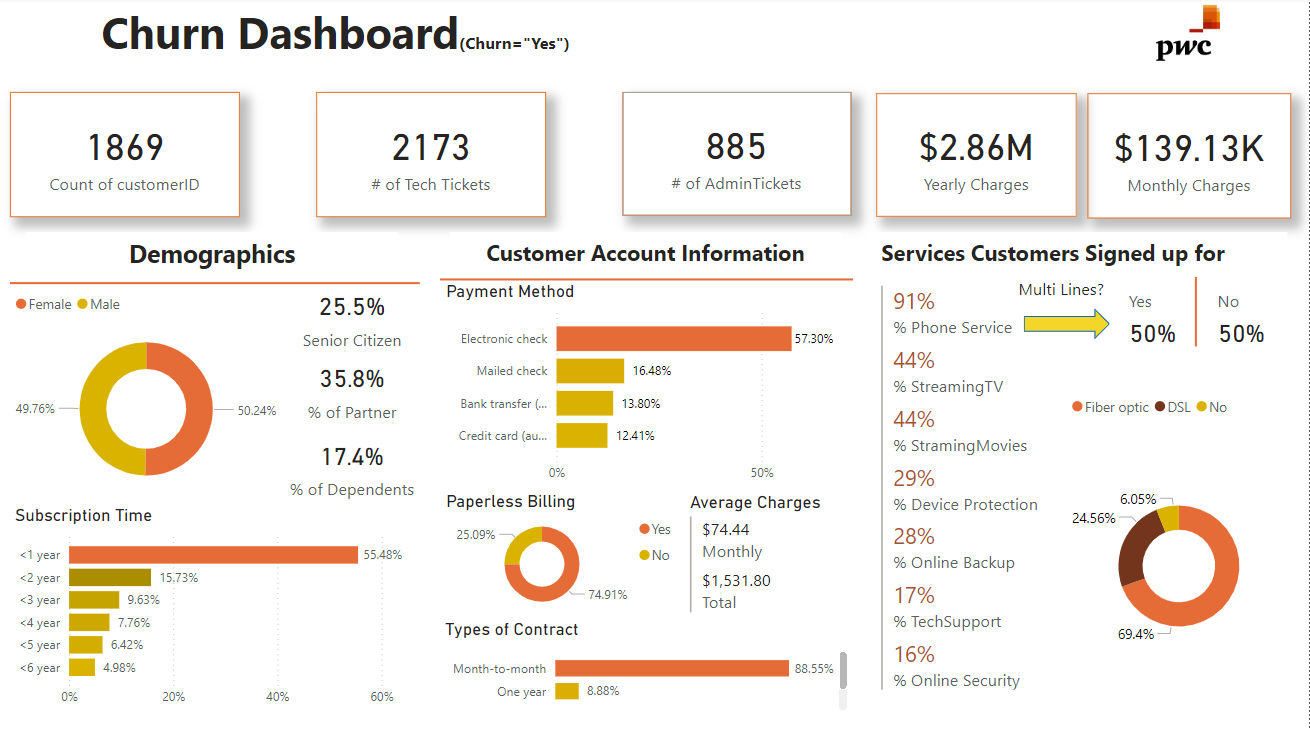

Layout of this report page (visuals, bound fields, positions):
{"tool":"powerbi","page":{"name":"Churn ","canvas":[1280,720],"ordinal":1},"visuals":[{"type":"textbox","box":[93.8,0,647.8,70.7],"z":0},{"type":"card","fields":{"Values":["Count(Churn-Dataset.customerID)"]},"box":[9.7,92.9,225.6,120.6],"z":1000},{"type":"card","fields":{"Values":["Sum(Churn-Dataset.TotalCharges)"]},"box":[856.6,94.1,196.6,119.4],"z":2000},{"type":"card","fields":{"Values":["Sum(Churn-Dataset.MonthlyCharges)"]},"box":[1062.9,94.1,199.1,119.4],"z":3000},{"type":"card","fields":{"Values":["Sum(Churn-Dataset.numAdminTickets)"]},"box":[610.5,92.9,223.2,120.6],"z":4000},{"type":"card","fields":{"Values":["Sum(Churn-Dataset.numTechTickets)"]},"box":[343.8,92.9,224.4,120.6],"z":5000},{"type":"textbox","box":[26,229.4,363.6,43.3],"z":6000},{"type":"donutChart","fields":{"Category":["Churn-Dataset.gender"],"Y":["CountNonNull(Churn-Dataset.gender)"]},"box":[10.1,279.9,266.9,216.4],"z":7000},{"type":"shape","box":[10.1,272.7,401.1,14.4],"z":8000},{"type":"card","fields":{"Values":["Churn-Dataset.% of Senior Citizen"]},"box":[277,279.9,134.2,66.4],"z":9000},{"type":"card","fields":{"Values":["Churn-Dataset.% of Partner"]},"box":[277,346.3,134.2,75],"z":10000},{"type":"card","fields":{"Values":["Churn-Dataset.% of Dependents"]},"box":[277,421.3,134.2,75],"z":11000},{"type":"clusteredBarChart","title":"Subscription Time","fields":{"Category":["Churn-Dataset.Tenure(in years)"],"Y":["CountNonNull(Churn-Dataset.Churn)"]},"box":[10.1,496.3,401.1,206.3],"z":12000},{"type":"textbox","box":[440,229.4,382.3,43.3],"z":13000},{"type":"shape","box":[429.9,272.7,404,7.2],"z":14000},{"type":"clusteredBarChart","title":"Payment Method","fields":{"Category":["Churn-Dataset.PaymentMethod"],"Y":["CountNonNull(Churn-Dataset.PaymentMethod)"]},"box":[431.4,277,401.1,206.3],"z":15000},{"type":"donutChart","title":"Paperless Billing ","fields":{"Category":["Churn-Dataset.PaperlessBilling"],"Y":["CountNonNull(Churn-Dataset.PaperlessBilling)"]},"box":[431.7,483,238.5,124.7],"z":16000},{"type":"multiRowCard","title":"Average Charges","fields":{"Values":["Avg(Churn-Dataset.MonthlyCharges)","Avg(Churn-Dataset.TotalCharges)"]},"box":[670.1,484.2,163.9,123.5],"z":17000},{"type":"clusteredBarChart","title":"Types of Contract","fields":{"Category":["Churn-Dataset.Contract"],"Y":["CountNonNull(Churn-Dataset.Contract)"]},"box":[430.4,607.7,403.5,95.4],"z":18000},{"type":"multiRowCard","fields":{"Values":["Churn-Dataset.% Phone Service","Churn-Dataset.% StreamingTV","Churn-Dataset.% StramingMovies","Churn-Dataset.% Device Protection","Churn-Dataset.% Online Backup","Churn-Dataset.% TechSupport","Churn-Dataset.% Online Security"]},"box":[857,277,206.3,425.6],"z":19000},{"type":"shape","box":[1001.5,304.5,84.4,30.6],"z":20000},{"type":"textbox","box":[990.5,269,95.4,35.5],"z":21000},{"type":"cardVisual","fields":{"Data":["Churn-Dataset.% Yes-MultipleLines","Churn-Dataset.% No-MultipleLines"]},"box":[1087.4,268.7,176.2,78.3],"z":22000},{"type":"donutChart","title":"Paperless Billing ","fields":{"Category":["Churn-Dataset.InternetService"],"Y":["CountNonNull(Churn-Dataset.InternetService)"]},"box":[1043.1,380.9,220.7,323.2],"z":23000},{"type":"image","box":[1043.1,0,236.6,70.7],"z":24000},{"type":"textbox","box":[857,229.4,402.5,43.3],"z":25000}]}

Visuals, with their boxes in screenshot pixels (x1, y1, x2, y2), scaled from the page's 1280x720 canvas onto the 1310x730 screenshot:
textbox: BBox(96, 0, 759, 72)
card - Count(Churn-Dataset.customerID): BBox(10, 94, 241, 216)
card - Sum(Churn-Dataset.TotalCharges): BBox(877, 95, 1078, 216)
card - Sum(Churn-Dataset.MonthlyCharges): BBox(1088, 95, 1292, 216)
card - Sum(Churn-Dataset.numAdminTickets): BBox(625, 94, 853, 216)
card - Sum(Churn-Dataset.numTechTickets): BBox(352, 94, 582, 216)
textbox: BBox(27, 233, 399, 276)
donutChart - Churn-Dataset.gender x CountNonNull(Churn-Dataset.gender): BBox(10, 284, 283, 503)
shape: BBox(10, 276, 421, 291)
card - Churn-Dataset.% of Senior Citizen: BBox(283, 284, 421, 351)
card - Churn-Dataset.% of Partner: BBox(283, 351, 421, 427)
card - Churn-Dataset.% of Dependents: BBox(283, 427, 421, 503)
"Subscription Time" clusteredBarChart: BBox(10, 503, 421, 712)
textbox: BBox(450, 233, 842, 276)
shape: BBox(440, 276, 853, 284)
"Payment Method" clusteredBarChart: BBox(442, 281, 852, 490)
"Paperless Billing " donutChart: BBox(442, 490, 686, 616)
"Average Charges" multiRowCard: BBox(686, 491, 854, 616)
"Types of Contract" clusteredBarChart: BBox(440, 616, 853, 713)
multiRowCard - Churn-Dataset.% Phone Service x Churn-Dataset.% StreamingTV: BBox(877, 281, 1088, 712)
shape: BBox(1025, 309, 1111, 340)
textbox: BBox(1014, 273, 1111, 309)
cardVisual - Churn-Dataset.% Yes-MultipleLines x Churn-Dataset.% No-MultipleLines: BBox(1113, 272, 1293, 352)
"Paperless Billing " donutChart: BBox(1068, 386, 1293, 714)
image: BBox(1068, 0, 1309, 72)
textbox: BBox(877, 233, 1289, 276)
